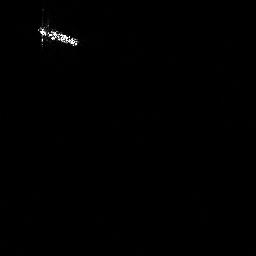ship: (35, 20, 83, 50)
